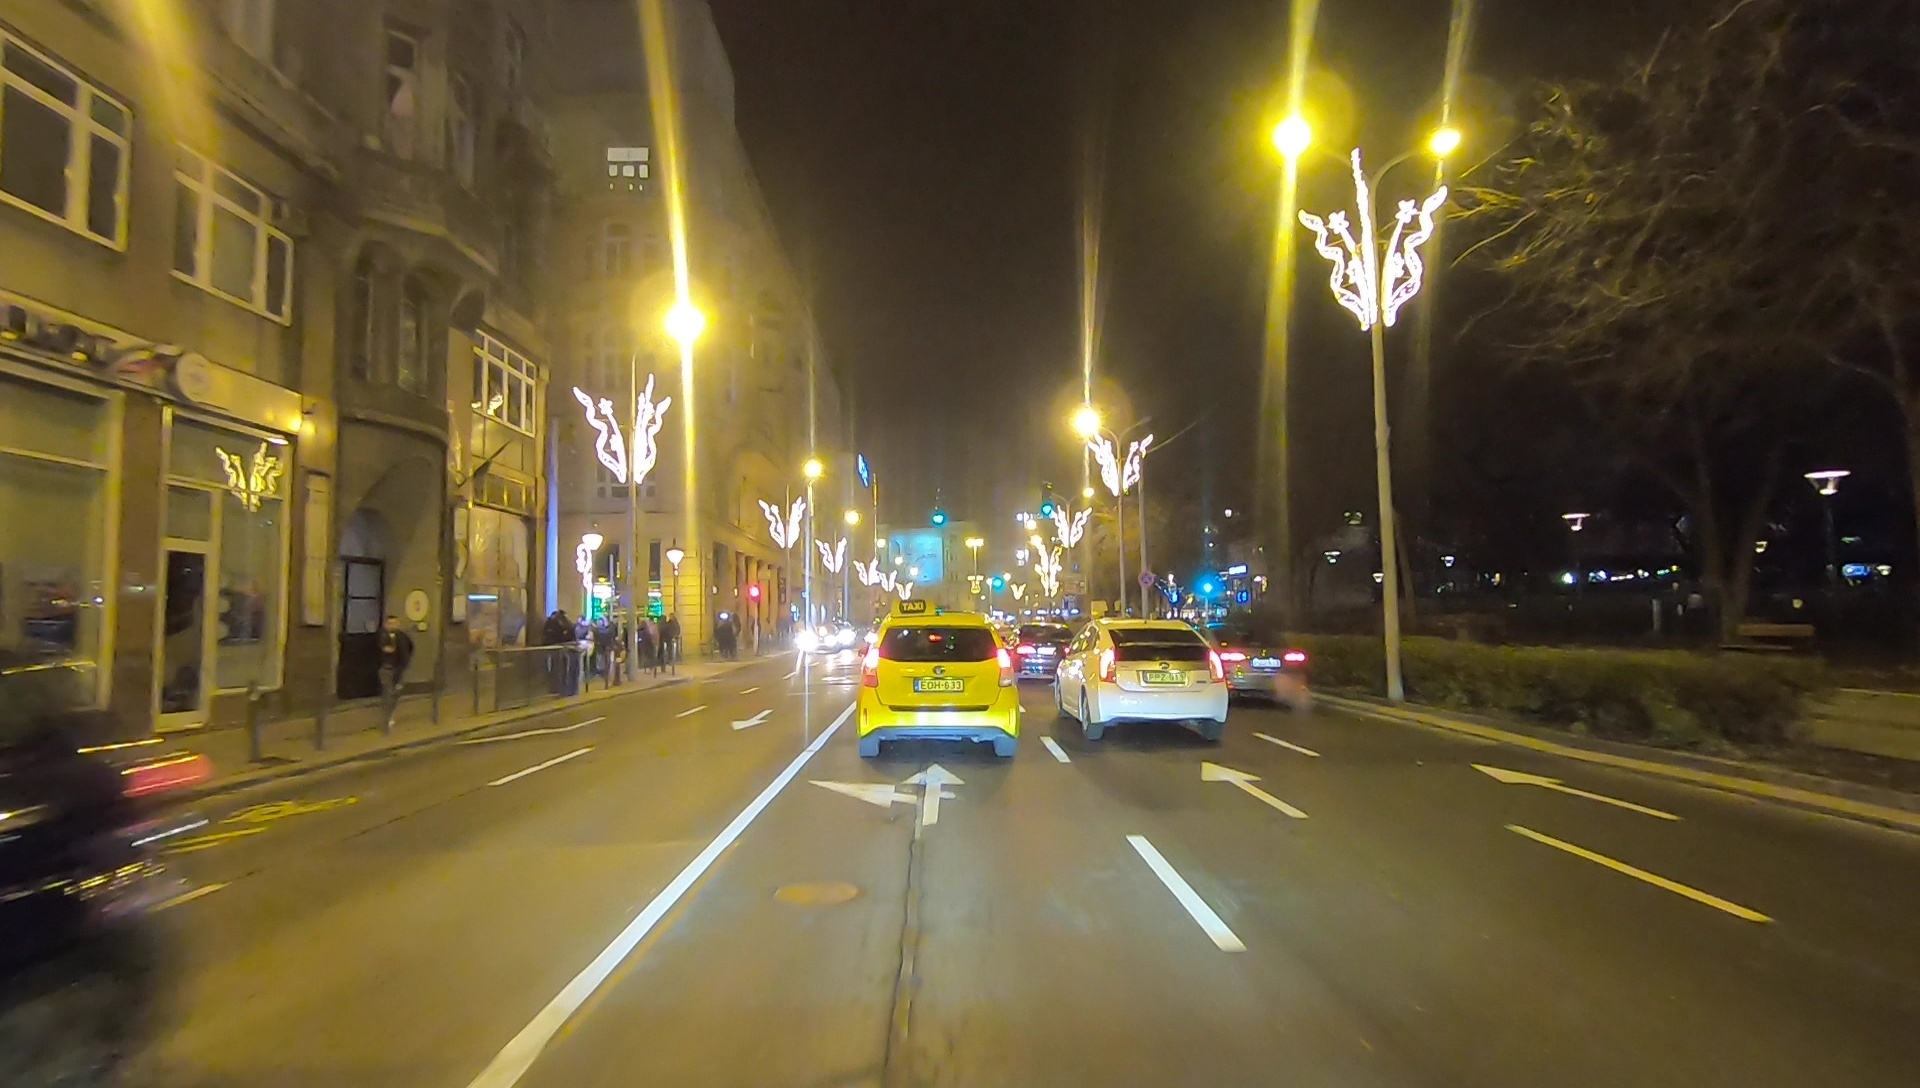person: (378, 621, 410, 730), (558, 613, 584, 695), (539, 611, 564, 693)
